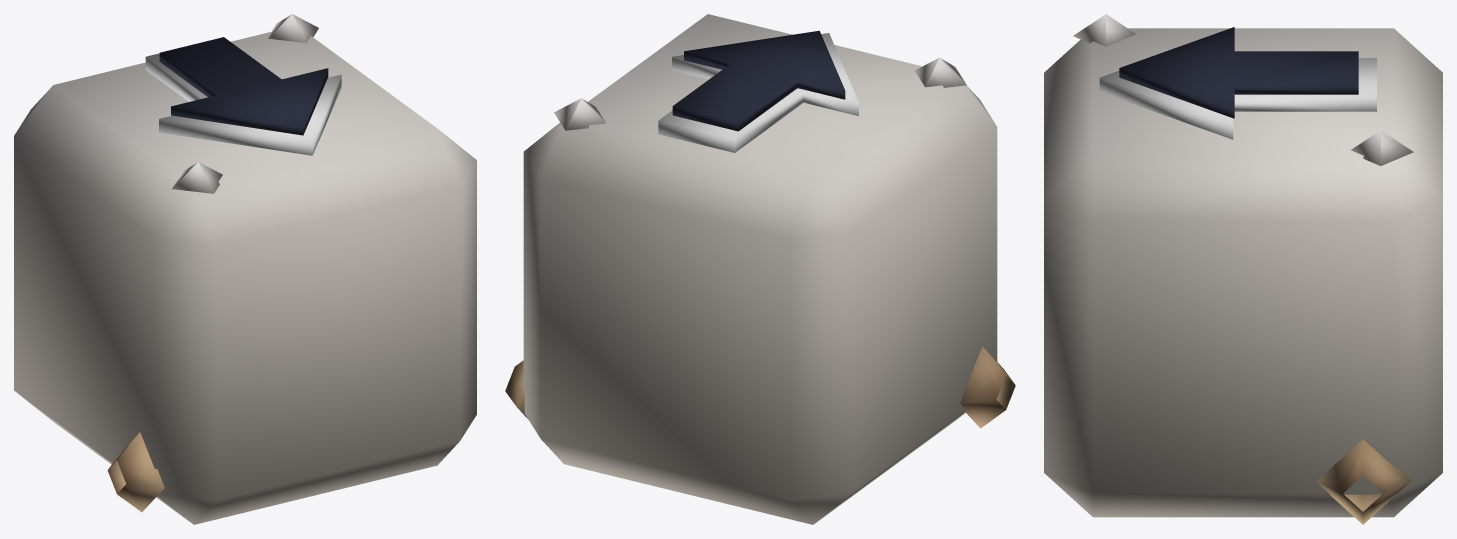
Rendered from pastel_lod2.glb.
3 views of the same model, side by side, from view 1: azimuth 30°, elevation 25°; view 2: azimuth 150°, elevation 25°; view 3: azimuth 270°, elevation 25° (orthographic). The views are drawn at different scales.
Visible parts, largest first — view 1: pastel_lod2; view 2: pastel_lod2; view 3: pastel_lod2.
Part boxes in pixels (x1,y1,x2,y2): pastel_lod2: (14,14,476,524); pastel_lod2: (505,14,1015,524); pastel_lod2: (1044,14,1442,524).
Bounding box in the file's own units: 1.03 × 0.96 × 0.9.
